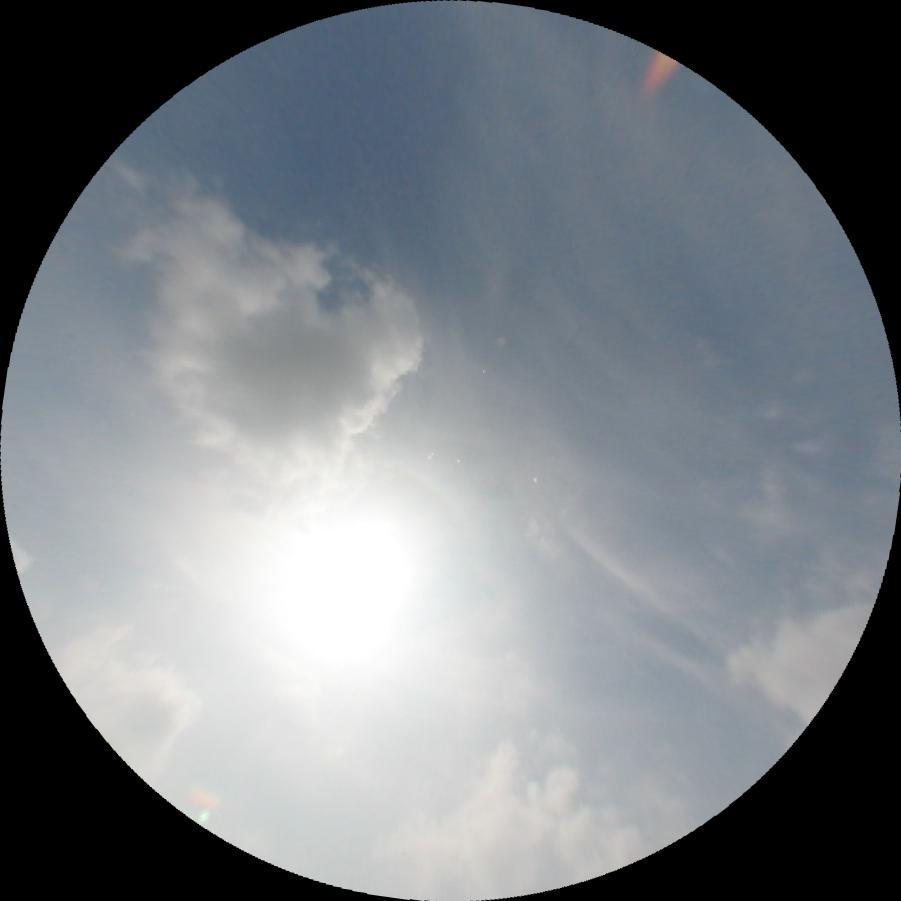sun: (268, 513, 418, 667)
